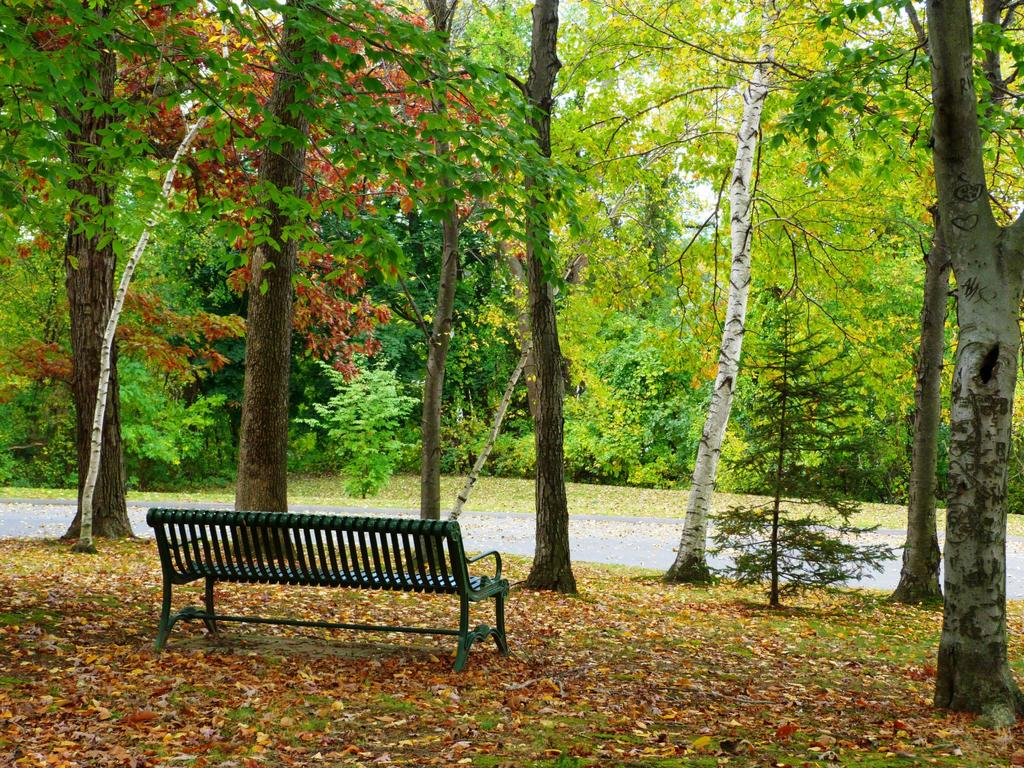Tree: (0, 2, 1019, 712)
